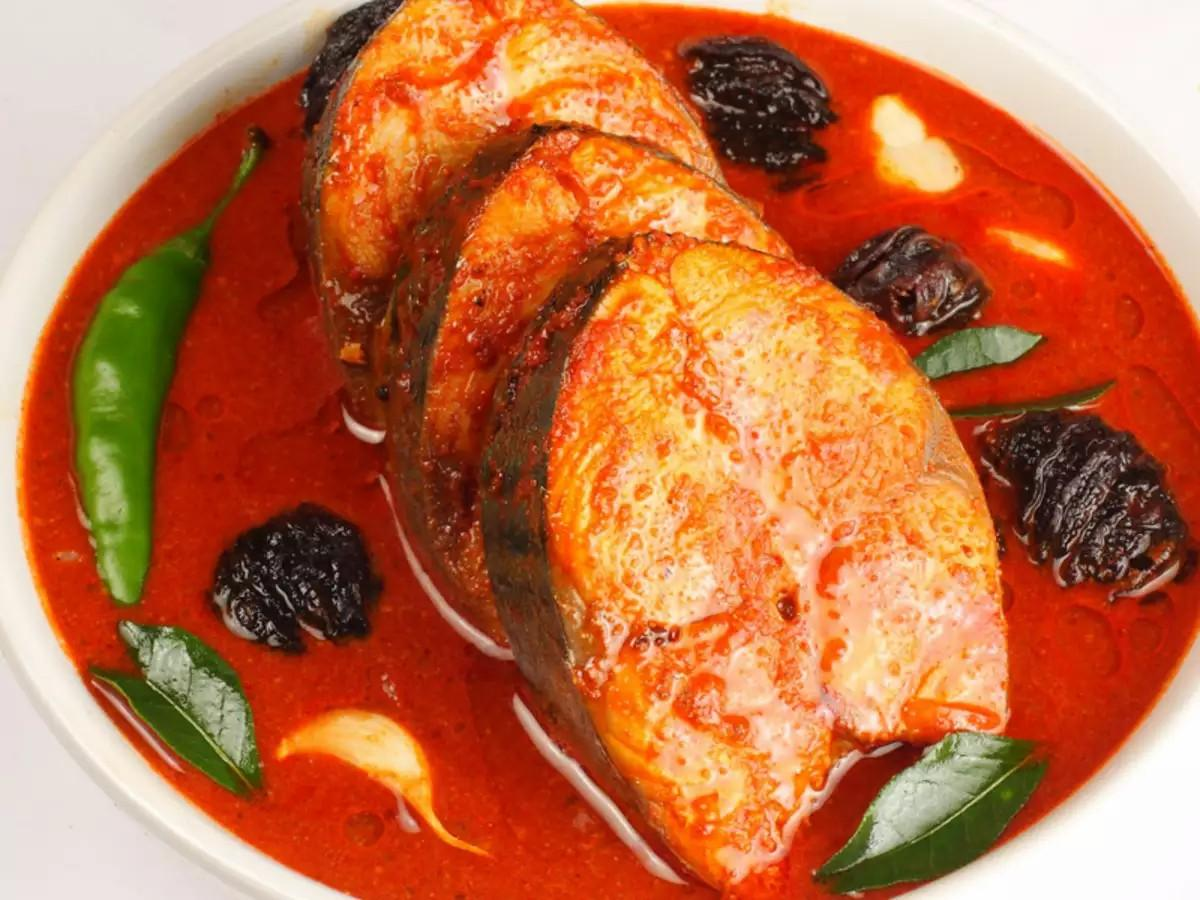FishCurry: (3, 6, 1200, 900)
